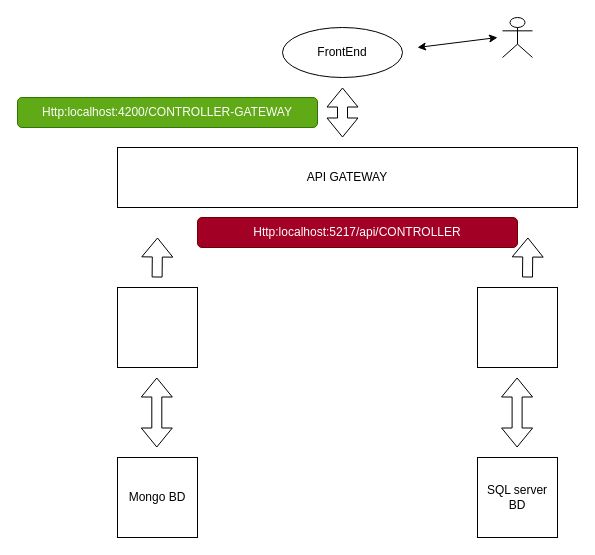
This 595x555 diagram has some shape labels left out. The box of each missing label's shape, as (x1, y1, x2, y2) in pixels:
Actor: (502, 16, 532, 58)
Libreria Microservice: (116, 286, 198, 368)
Seguridad Microservice: (476, 286, 558, 368)
